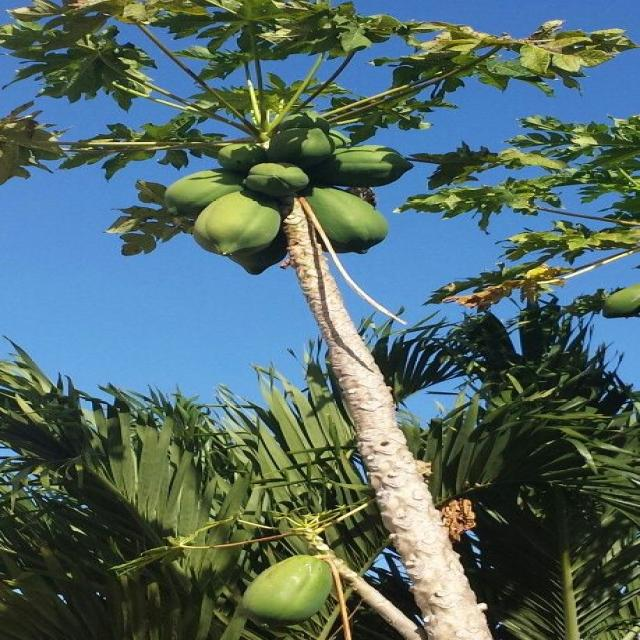Papaya-Tree: (14, 6, 640, 432)
